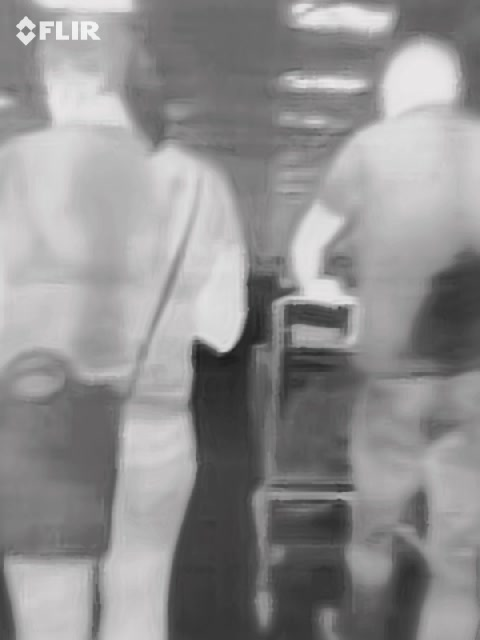head: (44, 16, 135, 126), (377, 38, 461, 120)
